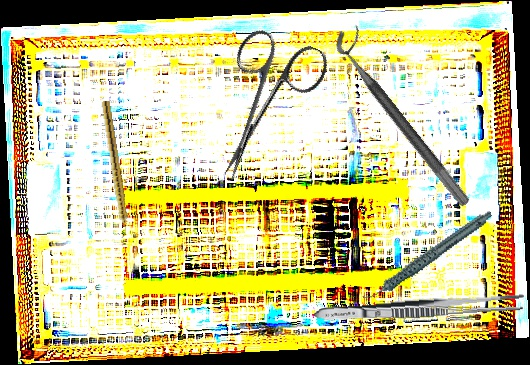Dressing Forceps: (313, 290, 526, 326)
Fixation Ring: (328, 20, 486, 209)
Handpiece: (349, 209, 505, 303), (98, 100, 132, 239)
Iris Scissors: (189, 20, 333, 197)
